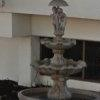Statue: (33, 2, 99, 100)
